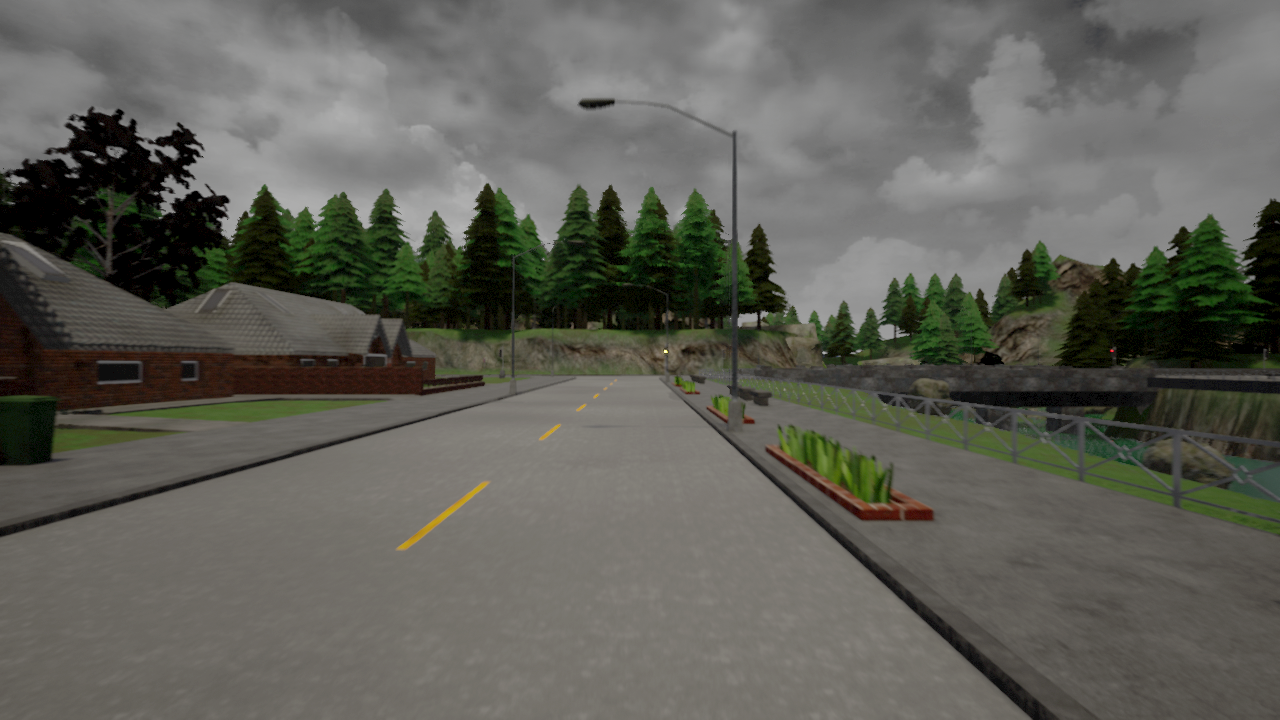yellow: (663, 346, 668, 358)
